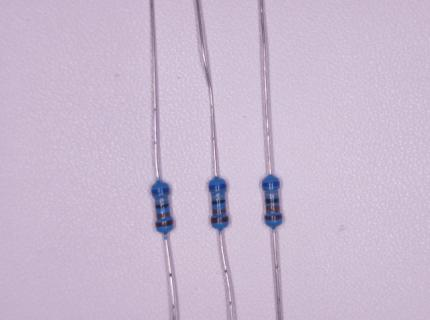Black band: (156, 204, 170, 209), (212, 200, 226, 205), (266, 199, 280, 204)
Blue band: (151, 187, 168, 194), (262, 181, 280, 187), (209, 184, 225, 189)
Brown band: (156, 219, 174, 227), (210, 216, 228, 224), (265, 214, 282, 222)
Grey band: (265, 192, 279, 197), (155, 198, 168, 203), (212, 195, 225, 198)
Orange band: (157, 212, 170, 219), (266, 206, 279, 212), (213, 209, 226, 214)
